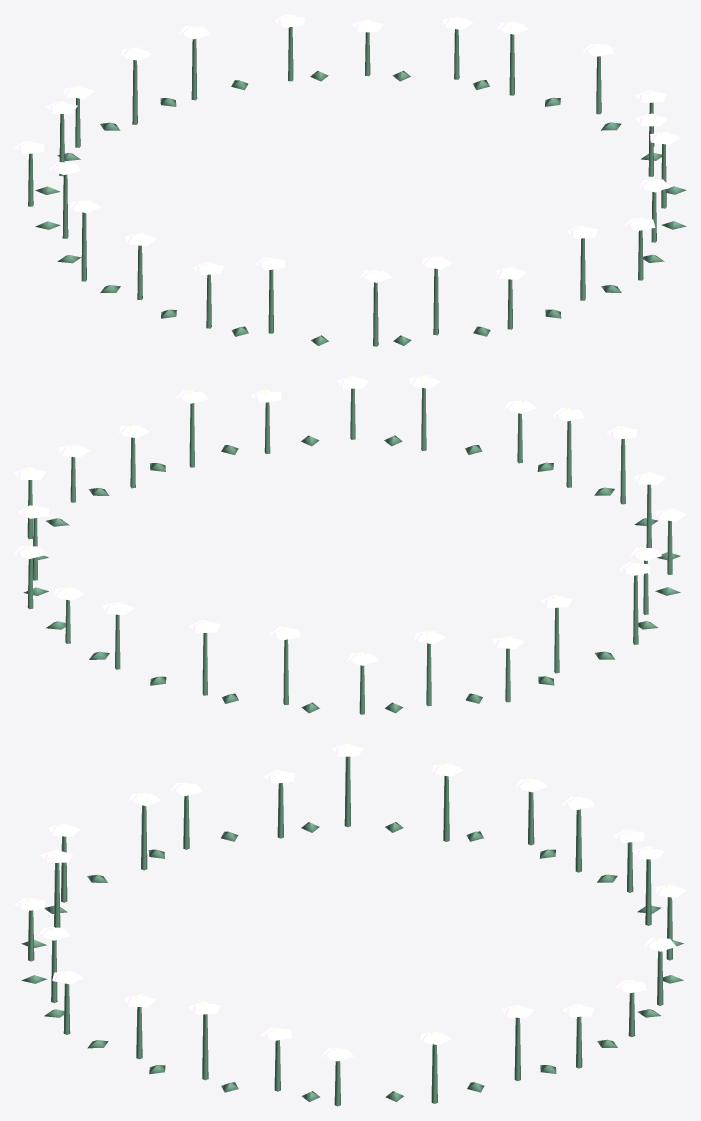
The model's file is flower_ring_stage3.glb.
3 renders of one model, top to bottom at view 1: azimuth 30°, elevation 25°; view 2: azimuth 150°, elevation 25°; view 3: azimuth 270°, elevation 25°, orthographic.
Visible parts, largest first — view 1: flowers; view 2: flowers; view 3: flowers.
Boxes of the visible parts, x1,y1,x2,y2 form: flowers: (14,14,686,346); flowers: (14,375,686,714); flowers: (14,743,686,1106).
Size of the model in its own units: 1.3 by 0.1694 by 1.26.
